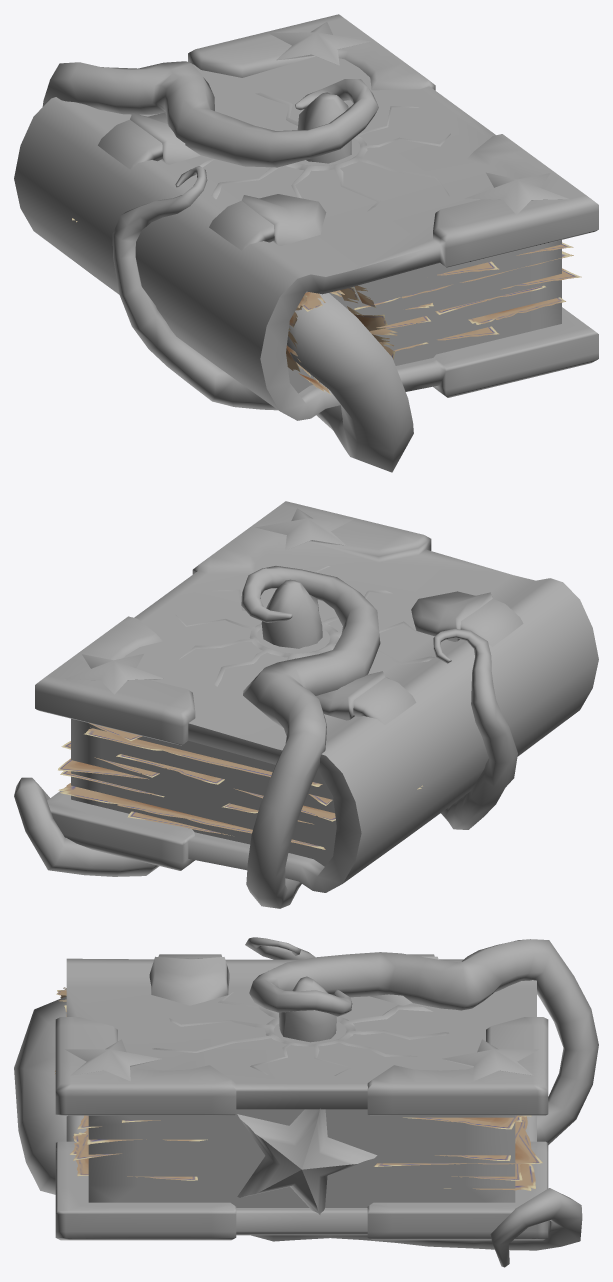
Rendered from SunBook.fbx.
3 views of the same model, one above another, from view 1: azimuth 30°, elevation 25°; view 2: azimuth 150°, elevation 25°; view 3: azimuth 270°, elevation 25° (orthographic). The views are drawn at different scales.
Visible parts, largest first — view 1: Cornerstars_low1; view 2: Cornerstars_low1; view 3: Cornerstars_low1.
Boxes of the visible parts, <box> form: Cornerstars_low1: <box>14,14,598,472</box>; Cornerstars_low1: <box>14,501,598,908</box>; Cornerstars_low1: <box>14,937,598,1267</box>.
Size of the model in its own units: 57.26 by 37.59 by 77.84.
